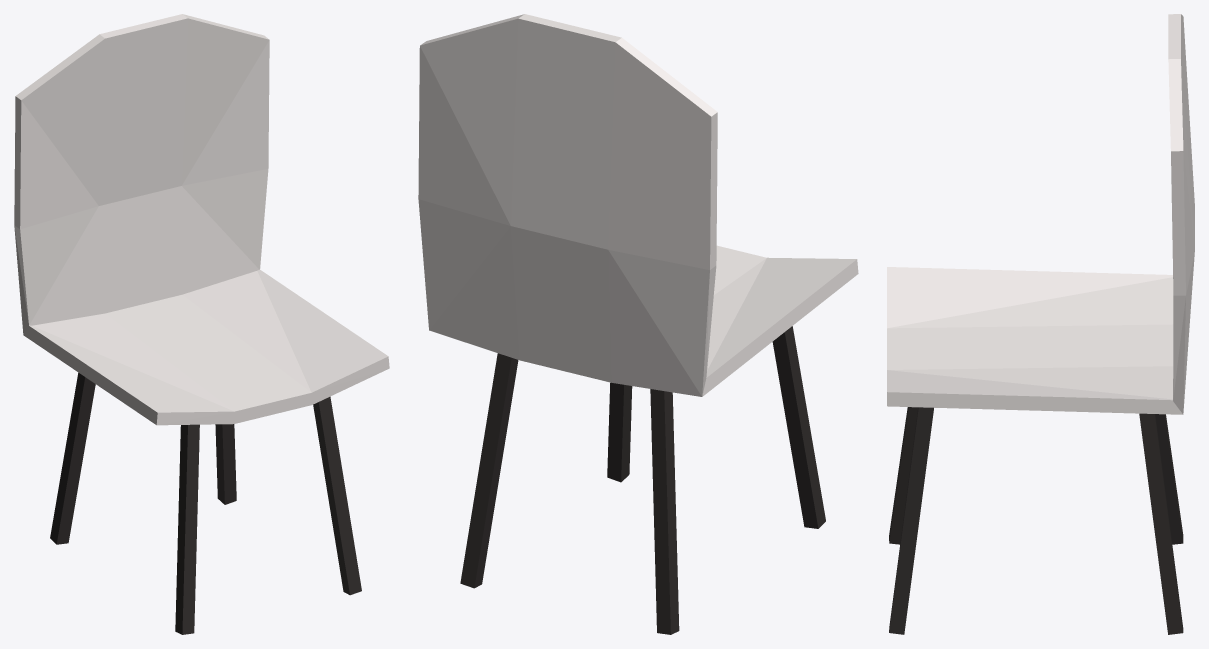
The model's file is Chair_07.fbx.
3 renders of one model, left to right at view 1: azimuth 30°, elevation 25°; view 2: azimuth 150°, elevation 25°; view 3: azimuth 270°, elevation 25°, orthographic. The views are drawn at different scales.
Parts seen in each view (by area): view 1: Chair_07; view 2: Chair_07; view 3: Chair_07.
Part boxes in pixels (x1,y1,x2,y2): Chair_07: (14, 14, 389, 634); Chair_07: (418, 14, 858, 634); Chair_07: (887, 14, 1194, 634).
Bounding box in the file's own units: 53.14 × 101 × 51.27.
